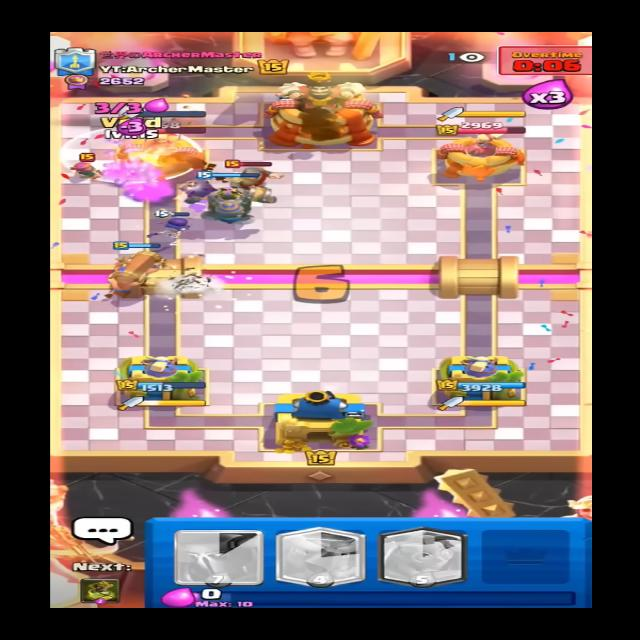archer: (68, 148, 102, 178)
knight: (217, 158, 284, 196)
